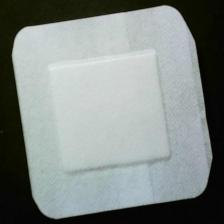Dressing: (12, 6, 216, 221)
